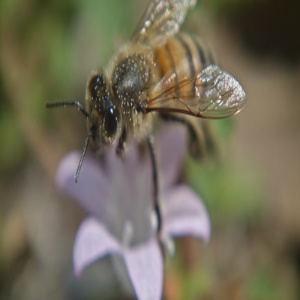bee: (80, 3, 246, 163)
